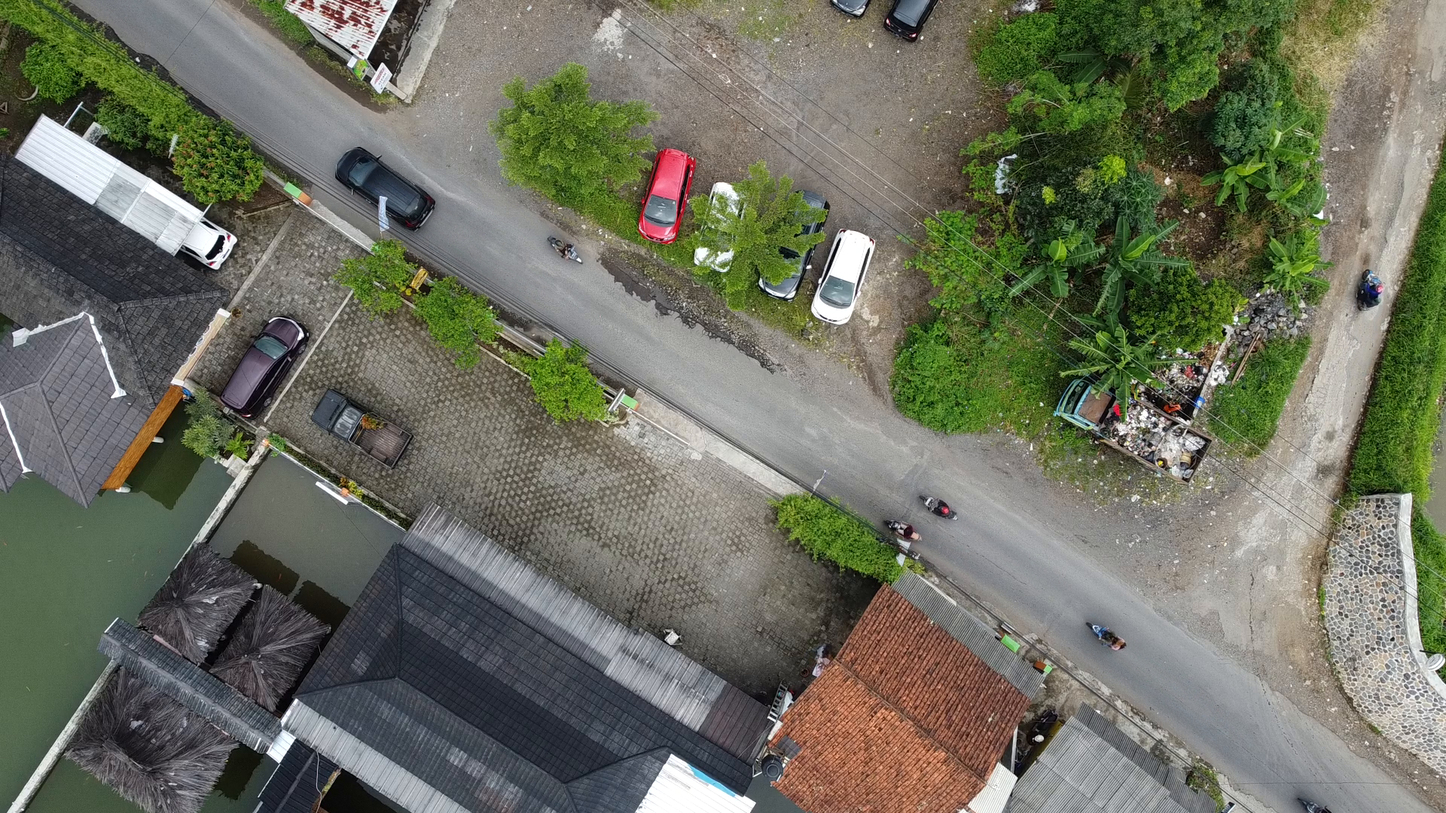mobil: (195, 309, 315, 430), (309, 368, 426, 488), (333, 142, 447, 230), (760, 179, 833, 308), (814, 214, 880, 337), (638, 148, 709, 254), (698, 170, 752, 273), (184, 205, 236, 269), (877, 1, 948, 46)
